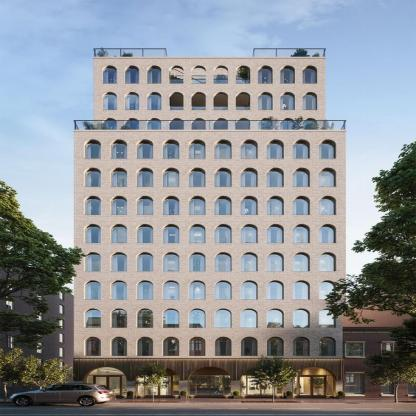Balcony: (74, 120, 347, 131), (252, 48, 326, 57), (95, 48, 169, 57), (170, 107, 251, 111), (170, 80, 251, 84)
Building Outline: (72, 48, 347, 399)
Door: (145, 375, 173, 398), (196, 375, 224, 398), (247, 375, 274, 398), (299, 376, 326, 398), (94, 376, 121, 398)
Facade: (72, 48, 348, 399)
Floor Slab: (74, 357, 346, 360), (74, 132, 346, 135), (74, 160, 346, 163), (74, 188, 346, 191), (74, 216, 346, 219), (74, 244, 346, 247), (74, 272, 346, 275), (74, 301, 346, 304), (74, 329, 346, 332), (95, 110, 325, 113), (95, 84, 325, 86)
Window: (319, 140, 336, 159), (215, 140, 232, 159), (319, 337, 336, 356), (215, 337, 232, 356), (319, 280, 336, 299), (215, 280, 232, 299), (319, 253, 336, 272), (215, 253, 232, 272), (319, 224, 336, 243), (215, 224, 232, 243), (319, 168, 336, 187), (215, 168, 232, 187), (319, 196, 336, 215), (136, 196, 153, 215), (111, 196, 128, 215), (319, 309, 336, 327), (215, 309, 232, 327), (294, 140, 310, 159), (190, 140, 206, 159), (163, 140, 179, 159), (137, 140, 153, 159), (111, 140, 127, 159), (85, 140, 101, 159), (267, 140, 283, 159), (242, 140, 258, 159), (294, 337, 310, 356), (190, 337, 206, 356), (163, 337, 179, 356), (137, 337, 153, 356), (111, 337, 127, 356), (85, 337, 101, 356), (267, 337, 283, 356), (242, 337, 258, 356), (294, 280, 310, 299), (190, 280, 206, 299), (163, 280, 179, 299), (137, 280, 153, 299), (111, 280, 127, 299), (85, 280, 101, 299), (267, 280, 283, 299), (242, 280, 258, 299), (294, 253, 310, 272), (190, 253, 206, 272), (163, 253, 179, 272), (137, 253, 153, 272), (111, 253, 127, 272), (85, 253, 101, 272), (267, 253, 283, 272), (242, 253, 258, 272), (294, 224, 310, 243), (190, 224, 206, 243), (163, 224, 179, 243), (137, 224, 153, 243), (111, 224, 127, 243), (85, 224, 101, 243), (267, 224, 283, 243), (242, 224, 258, 243), (294, 168, 310, 187), (190, 168, 206, 187), (163, 168, 179, 187), (137, 168, 153, 187), (111, 168, 127, 187), (85, 168, 101, 187), (267, 168, 283, 187), (242, 168, 258, 187), (85, 196, 101, 215), (215, 196, 231, 215), (163, 196, 179, 215), (190, 196, 206, 215), (293, 196, 309, 215), (241, 196, 257, 215), (268, 196, 284, 215), (294, 309, 310, 327), (190, 309, 206, 327), (163, 309, 179, 327), (137, 309, 153, 327), (111, 309, 127, 327), (85, 309, 101, 327), (267, 309, 283, 327), (242, 309, 258, 327), (295, 367, 331, 375), (89, 367, 125, 375), (304, 118, 318, 136), (259, 118, 273, 136), (281, 118, 295, 136), (148, 118, 162, 136), (103, 118, 117, 136), (125, 118, 139, 136), (236, 118, 250, 136), (170, 118, 184, 136), (192, 118, 206, 136), (214, 118, 228, 136), (304, 66, 318, 83), (259, 66, 273, 83), (281, 66, 295, 83), (304, 93, 318, 110), (259, 93, 273, 110), (281, 93, 295, 110), (236, 66, 250, 83), (103, 66, 117, 83), (125, 66, 139, 83), (236, 93, 250, 110), (103, 93, 117, 110), (125, 93, 139, 110), (148, 66, 162, 83), (148, 93, 162, 110), (170, 66, 184, 83), (192, 66, 206, 83), (214, 66, 228, 83), (192, 93, 206, 110), (214, 93, 228, 110), (170, 93, 184, 110), (138, 375, 145, 395), (122, 376, 128, 396), (87, 376, 93, 396), (327, 376, 333, 396), (291, 376, 297, 396), (173, 375, 179, 395), (224, 375, 230, 395), (275, 375, 281, 395), (240, 375, 246, 395), (190, 375, 195, 395)
